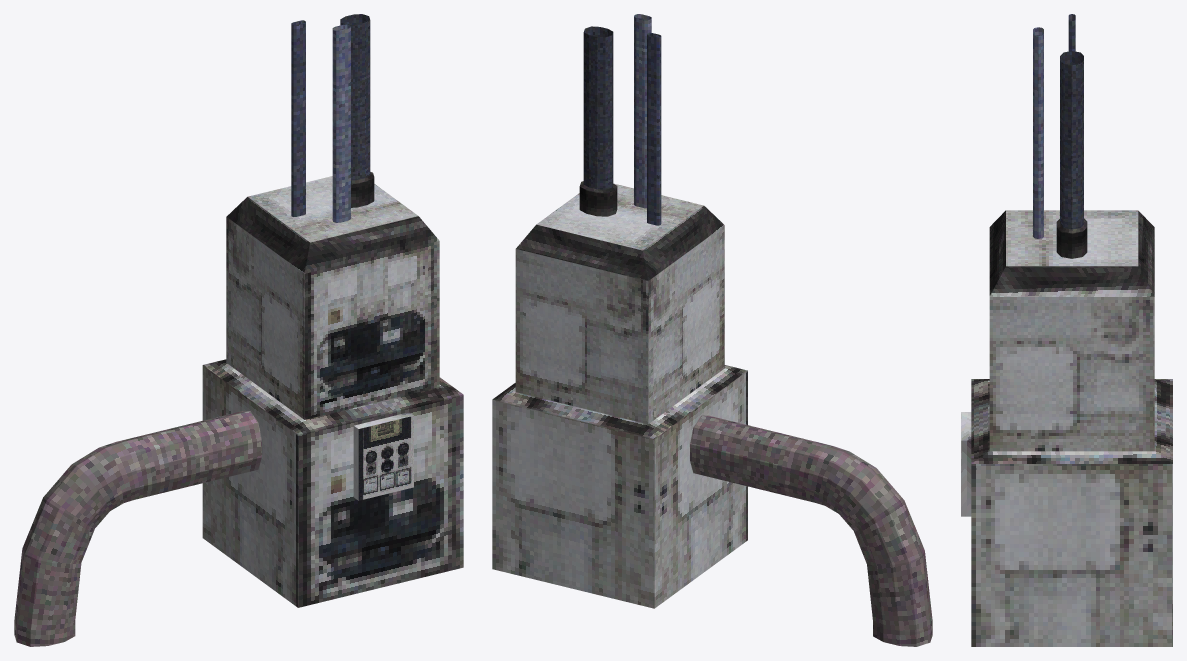
The model's file is machinery.gltf.
The picture shows the model from 3 angles, left to right: view 1: azimuth 30°, elevation 25°; view 2: azimuth 150°, elevation 25°; view 3: azimuth 270°, elevation 25°; orthographic projection. The views are drawn at different scales.
Parts seen in each view (by area): view 1: BezierCurve.002; view 2: BezierCurve.002; view 3: BezierCurve.002.
Boxes of the visible parts, x1,y1,x2,y2 form: BezierCurve.002: (14, 14, 463, 646); BezierCurve.002: (492, 14, 932, 646); BezierCurve.002: (961, 14, 1172, 646).
Bounding box in the file's own units: 2.73 × 3.6 × 1.19.
1 material, 1 textured.
